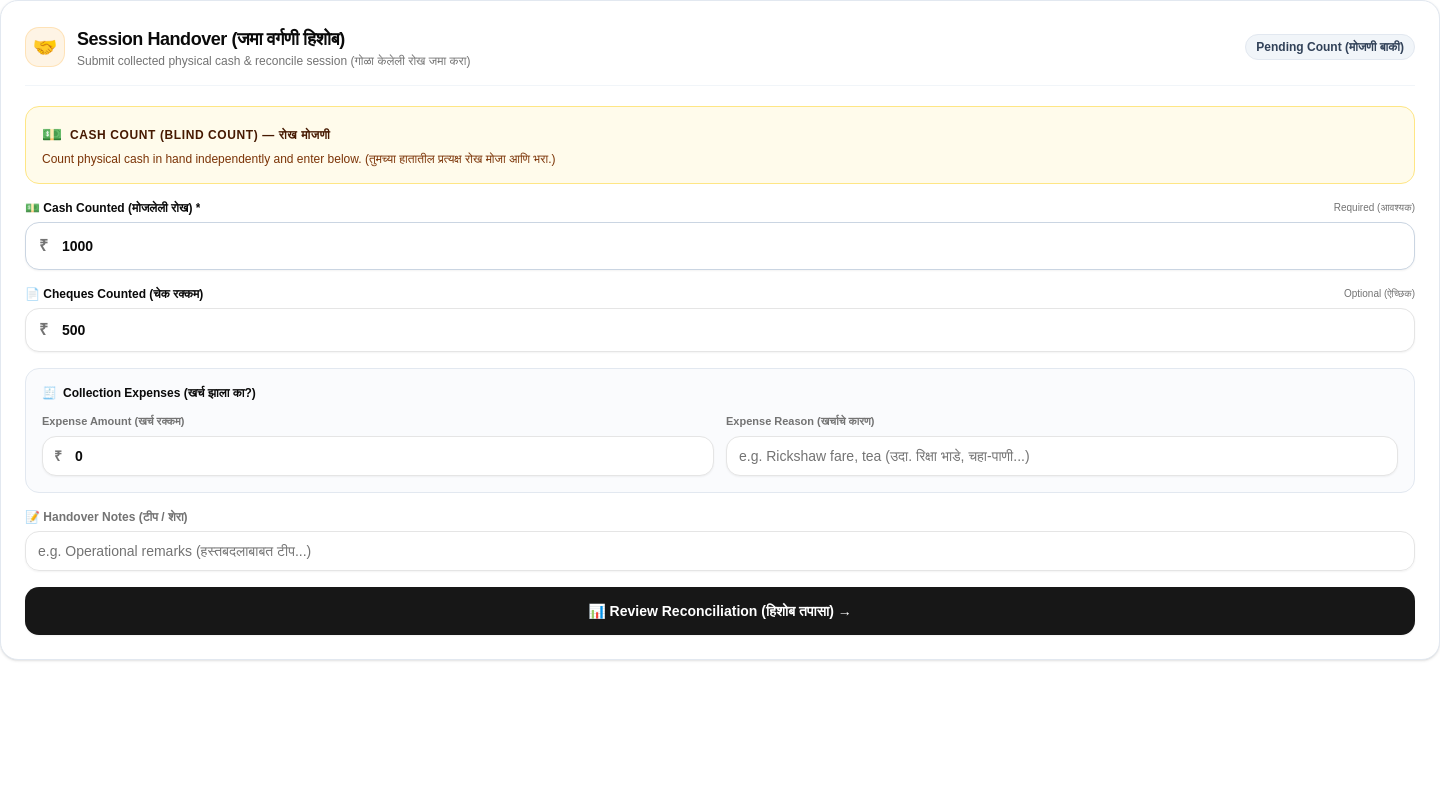
VolunteerHandoverForm › 3. reveals reconciliation desk with primary cash headline after entering count and clicking review
The width and height of the screenshot is (1440, 810).
Click the button "📊 Review Reconciliation (हिशोब तपासा) →": [720, 610] box [25,586,1415,634]
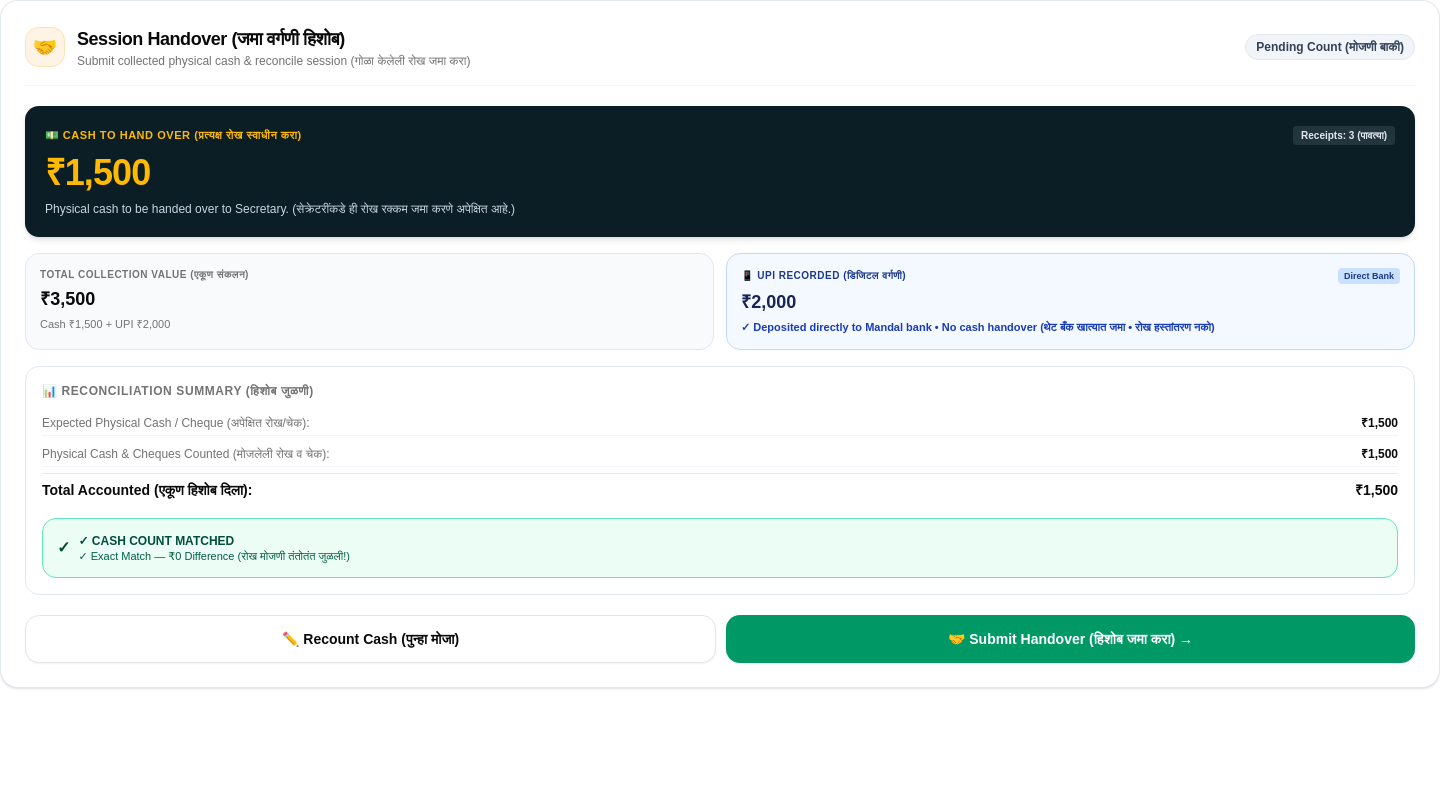
Expected: the text "💵 CASH TO HAND OVER (प्रत्यक्ष रोख स्वाधीन करा)" is shown, [45,127,302,144]
Expected: the text "Expected Physical Cash / Cheque (अपेक्षित रोख/चेक):" is shown, [42,415,310,431]
Expected: the text "✓ CASH COUNT MATCHED" is shown, [78,534,234,548]
